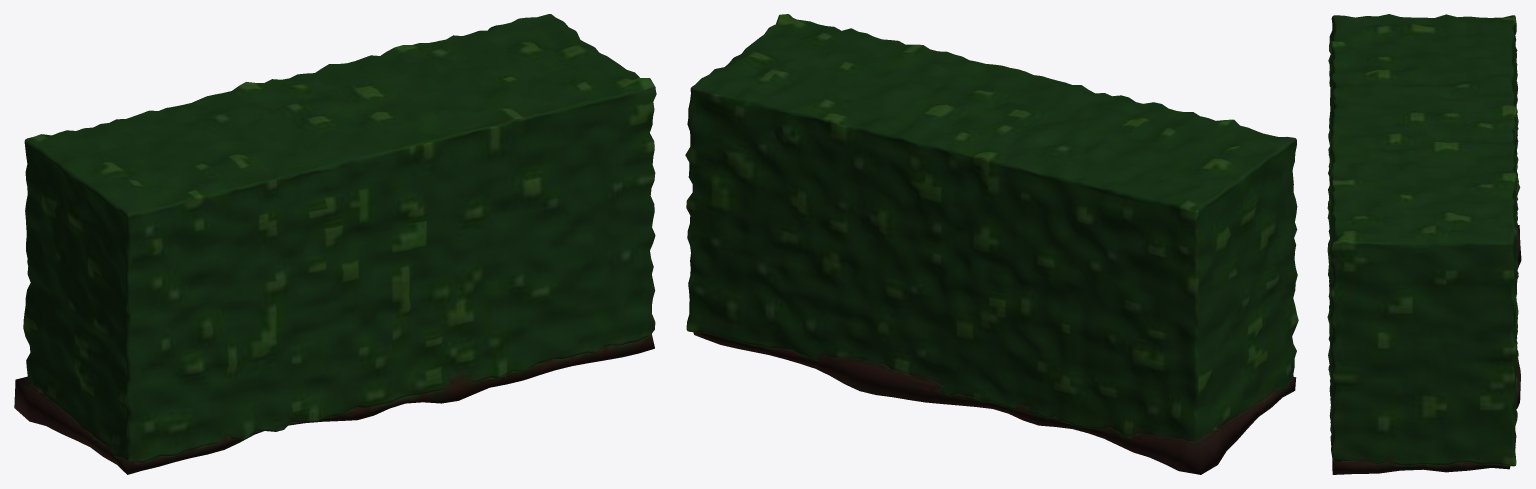
Rendered from hedge.glb.
The picture shows the model from 3 angles, left to right: view 1: azimuth 30°, elevation 25°; view 2: azimuth 150°, elevation 25°; view 3: azimuth 270°, elevation 25°; orthographic projection. The views are drawn at different scales.
Parts seen in each view (by area): view 1: hedge; view 2: hedge; view 3: hedge.
Boxes of the visible parts, x1,y1,x2,y2 form: hedge: [14, 14, 656, 474]; hedge: [685, 14, 1298, 474]; hedge: [1327, 14, 1521, 474].
Size of the model in its own units: 2 by 0.9883 by 0.7037.
Materials: 1 (1 with a texture image).
